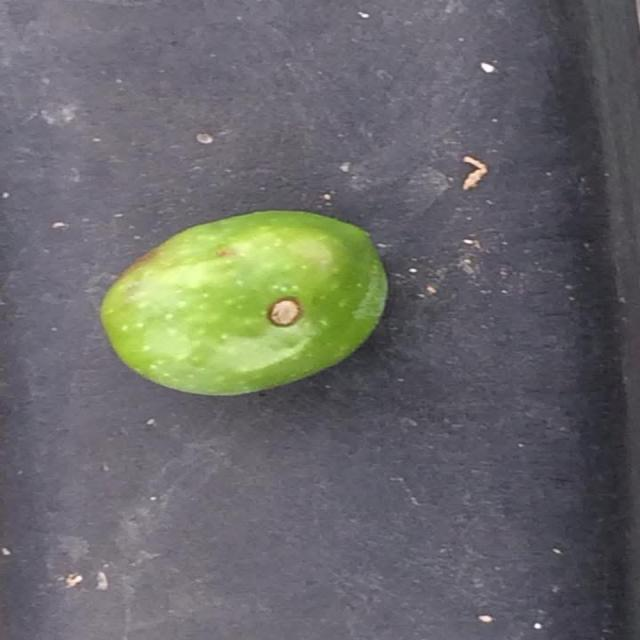Anthracnose: (100, 210, 388, 396)
